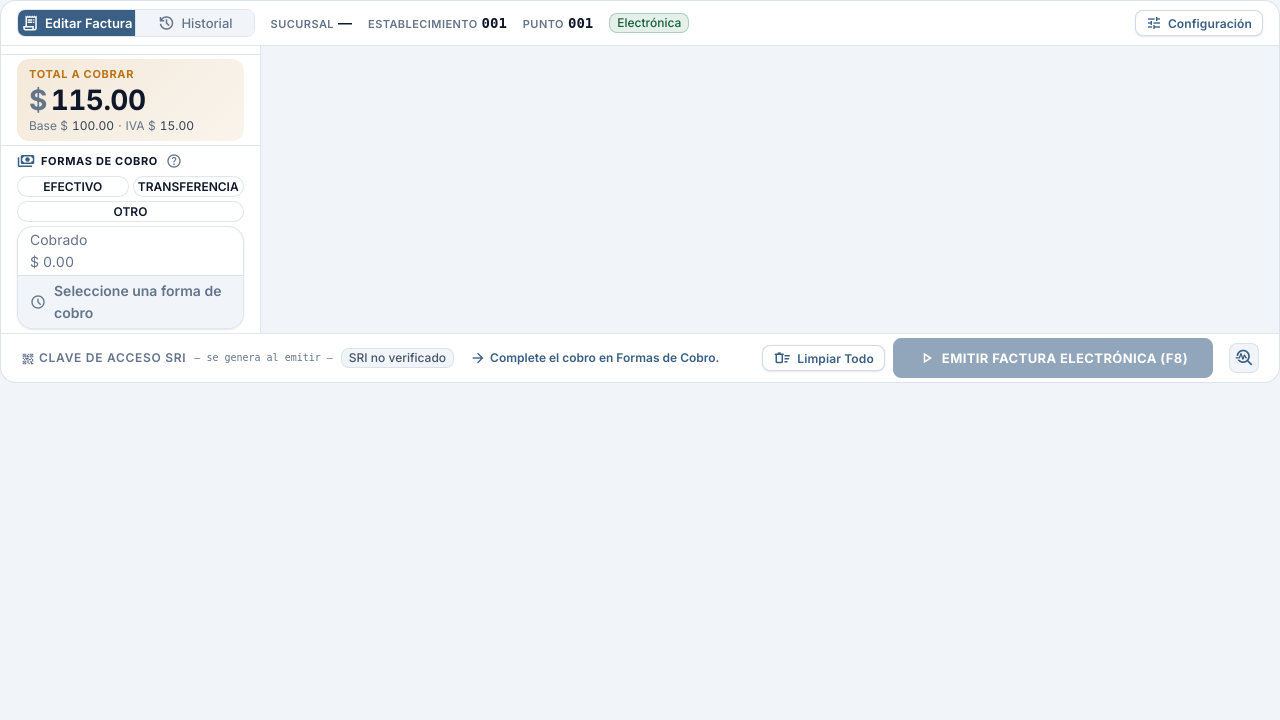
Scenario: SalesPage — label de cabecera aclara que Forma Pago SRI es solo el default/respaldo (SALES-SRI-PAYMENT-FALLBACK-LABEL-01) › muestra el label actualizado 'Forma Pago SRI por Defecto' dentro del modal de configuración
The image size is (1280, 720).
Click the button "Configuración". click: (1199, 23)
box: x1=1135 y1=10 x2=1263 y2=36
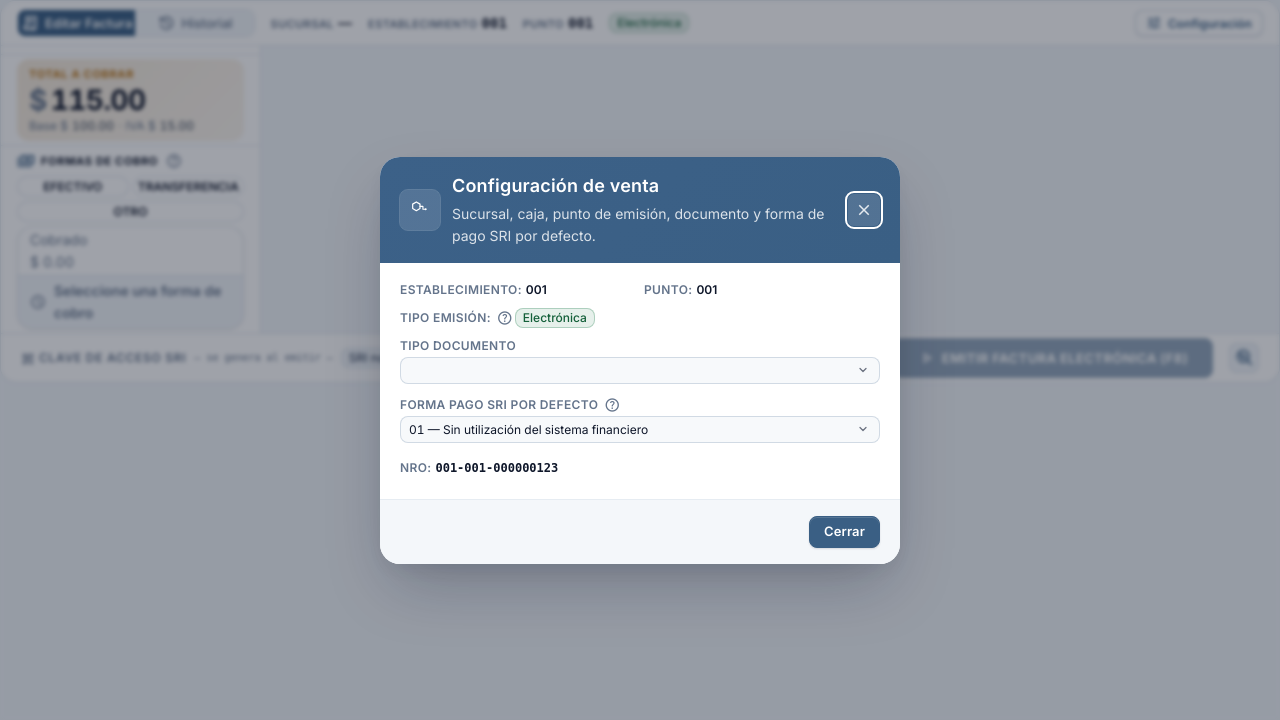
Result: the text "Forma Pago SRI por Defecto" is shown at x1=400 y1=394 x2=598 y2=414
